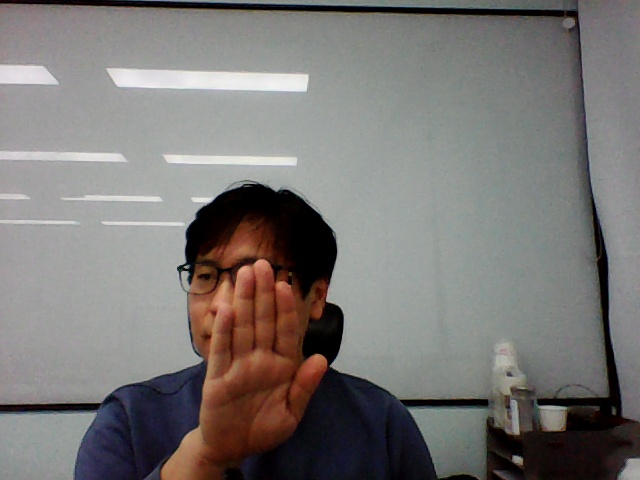five: (184, 253, 330, 458)
